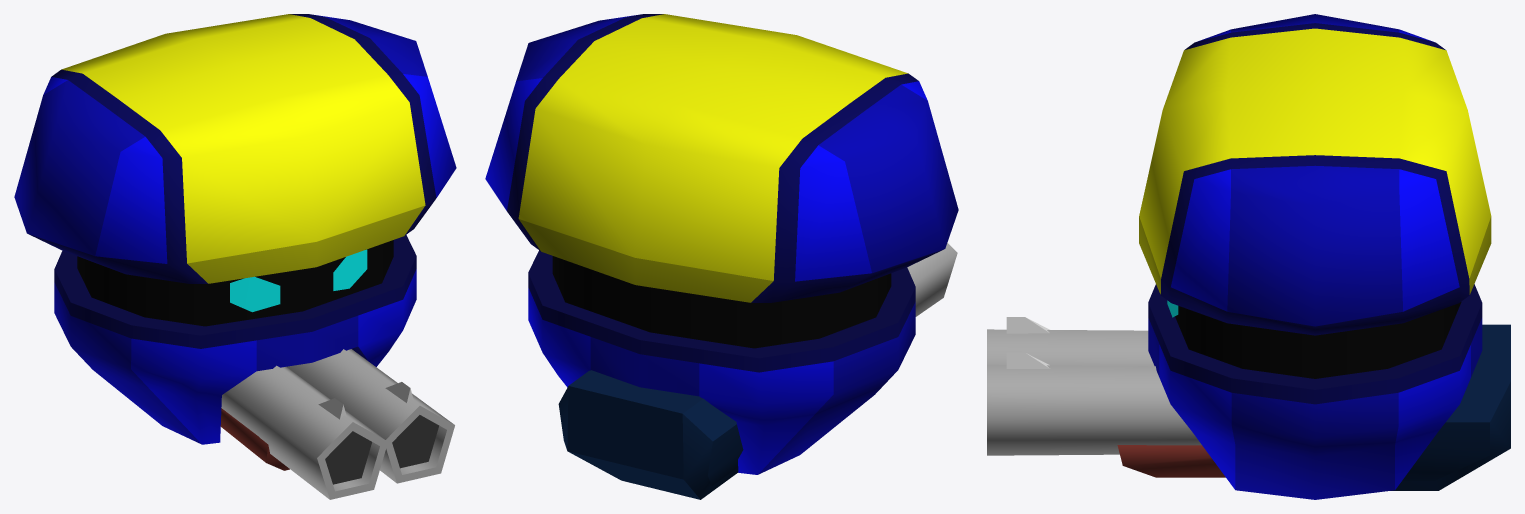
Rendered from DroneShotGun.glb.
3 renders of one model, left to right at view 1: azimuth 30°, elevation 25°; view 2: azimuth 150°, elevation 25°; view 3: azimuth 270°, elevation 25°, orthographic. The views are drawn at different scales.
Visible parts, largest first — view 1: DroneShotGun; view 2: DroneShotGun; view 3: DroneShotGun.
Part boxes in pixels (box(x1,y1,x2,y2)): DroneShotGun: box(14, 14, 456, 499); DroneShotGun: box(485, 14, 958, 499); DroneShotGun: box(987, 14, 1510, 499).
Size of the model in its own units: 0.7469 by 0.6065 by 0.747.
Materials: 1 (1 with a texture image).
